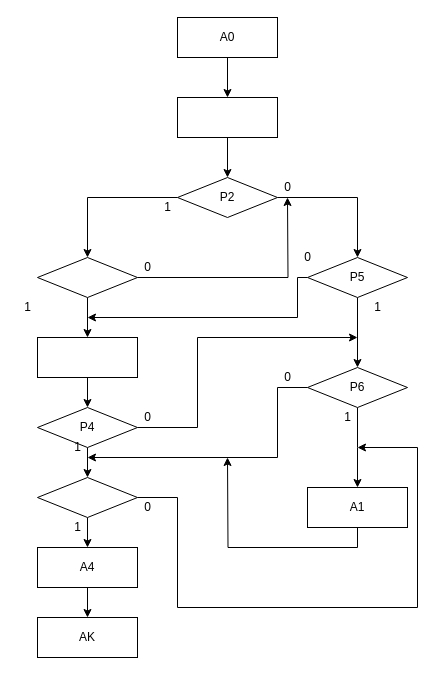
The diagram is 443 pixels wide and 675 high, and some of its shapes have lost their labels. The shapes that lost their labels are listed below. From the top down, each one's centre as x and y in pixels, then its label:
point (227, 117): A2
point (87, 277): P1
point (87, 357): A3
point (87, 497): P3
